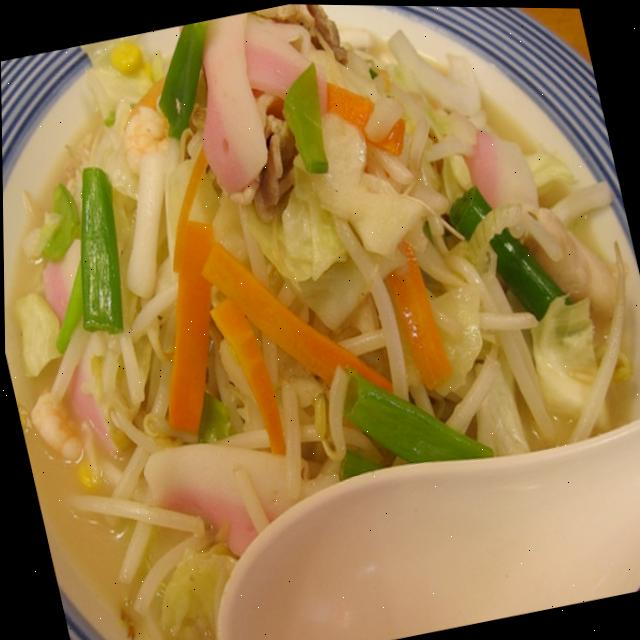鸡蛋料理: (1, 66, 640, 636)
